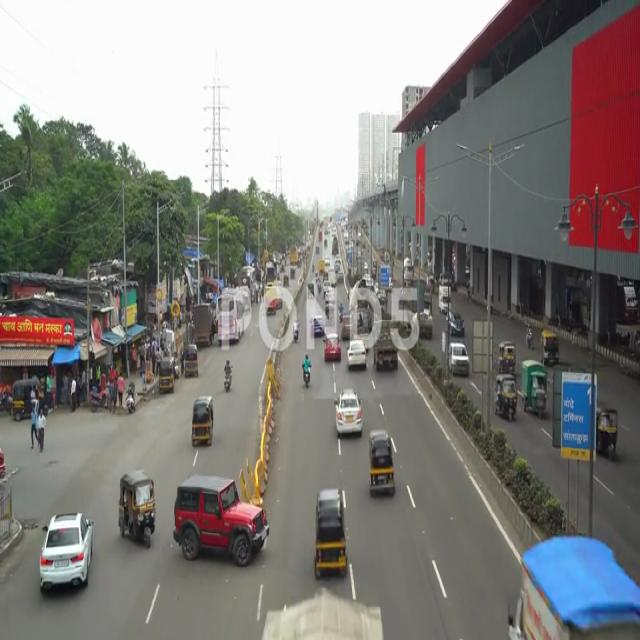car: (37, 507, 95, 594), (334, 385, 366, 440)
rikshaw: (312, 487, 350, 581), (120, 472, 158, 550), (368, 433, 394, 499), (598, 401, 622, 464), (495, 373, 518, 428)
truck: (495, 532, 640, 640), (521, 358, 547, 422)
